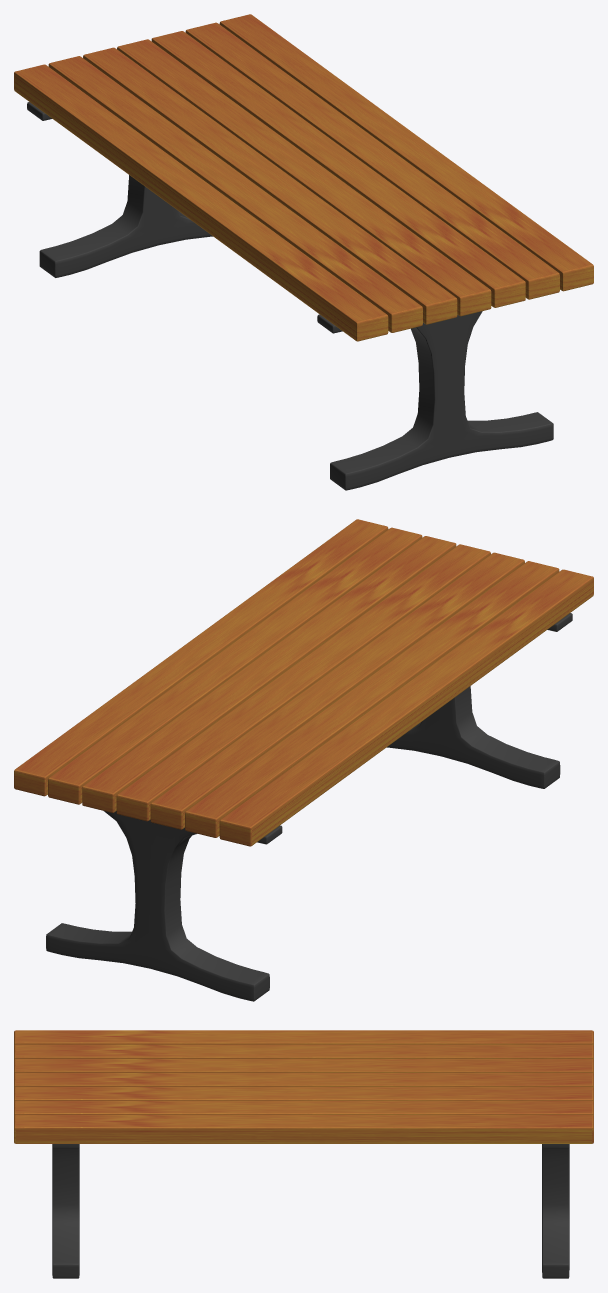
The model's file is bench2.fbx.
3 renders of one model, top to bottom at view 1: azimuth 30°, elevation 25°; view 2: azimuth 150°, elevation 25°; view 3: azimuth 270°, elevation 25°, orthographic. The views are drawn at different scales.
Visible parts, largest first — view 1: polySurface17; view 2: polySurface17; view 3: polySurface17.
Boxes of the visible parts, left/top/right/bottom form: polySurface17: left=14, top=14, right=593, bottom=490; polySurface17: left=14, top=519, right=593, bottom=1001; polySurface17: left=14, top=1030, right=593, bottom=1278.
Bounding box in the file's own units: 8.47 × 6.37 × 21.08.
